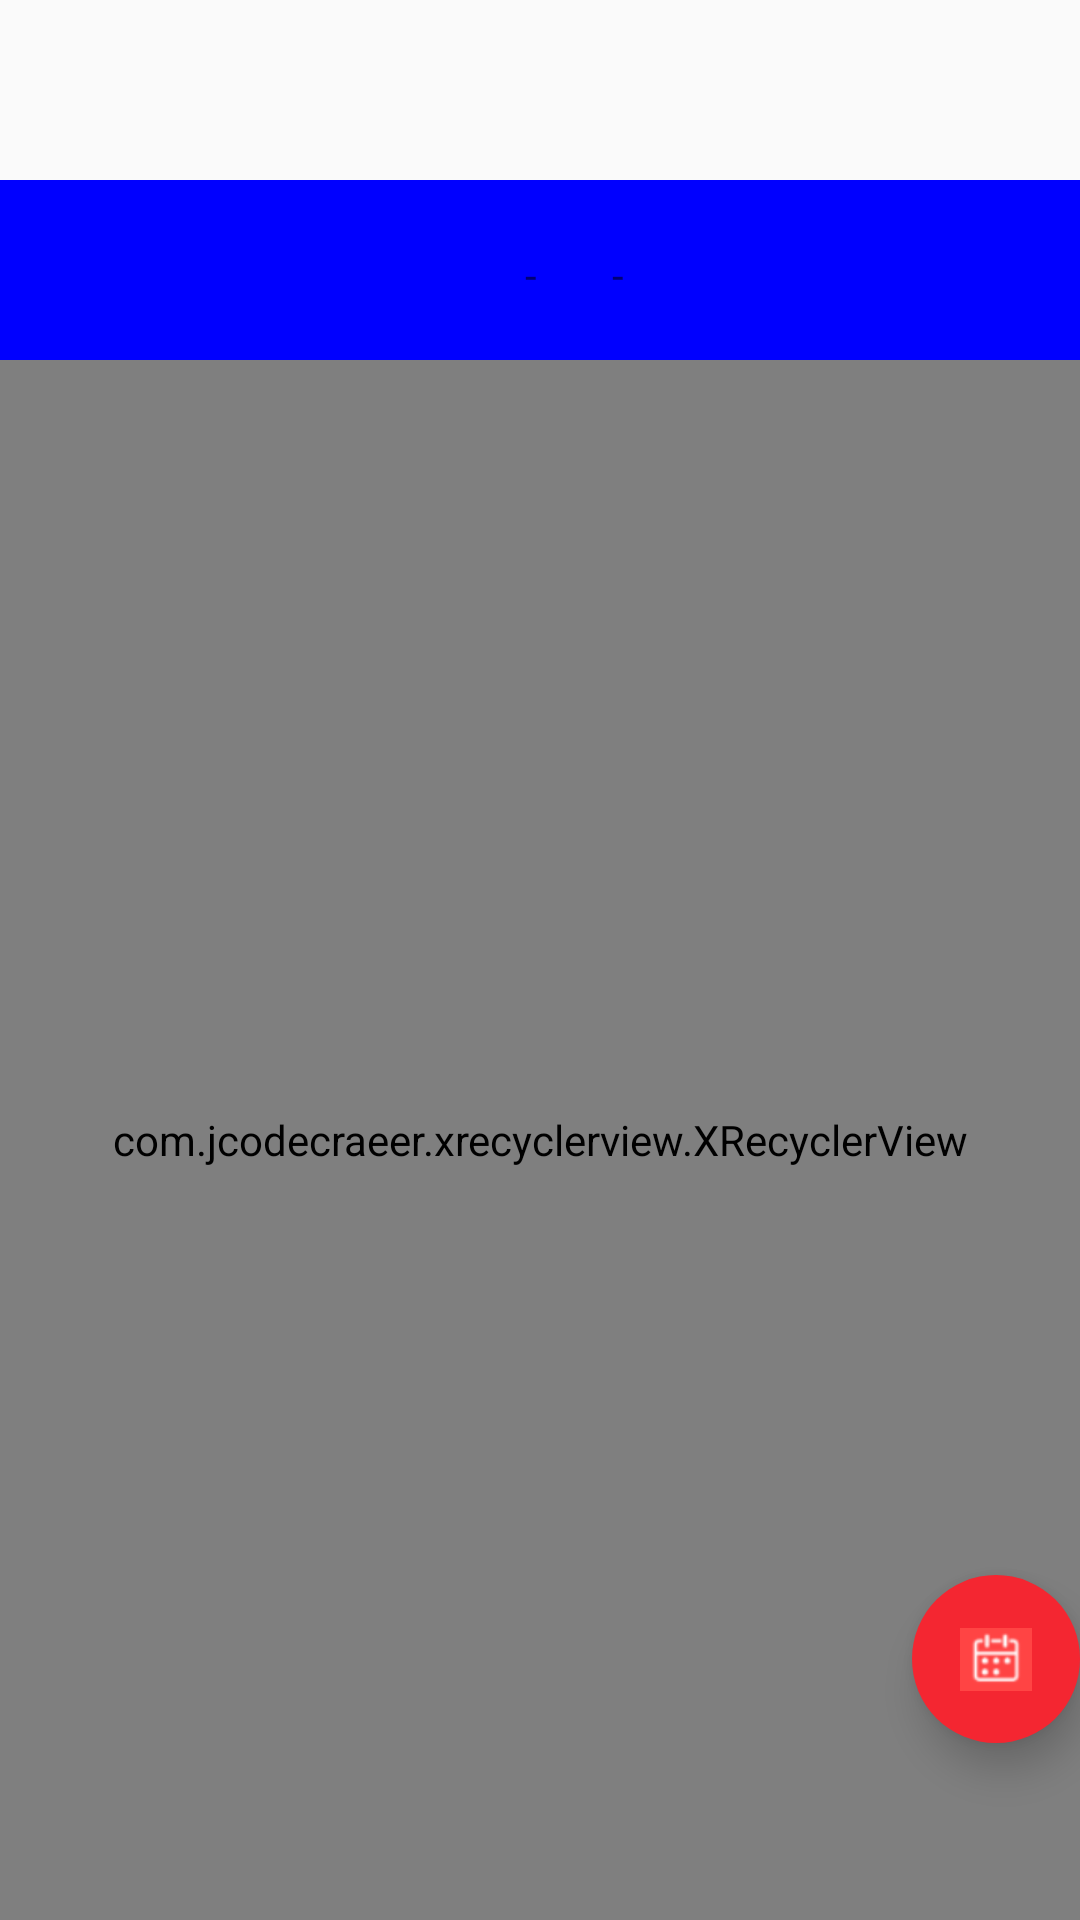

Where to tap for icons on this 1080*1920 app screen, as (x=x, y=y):
rili: (x=996, y=1659)
